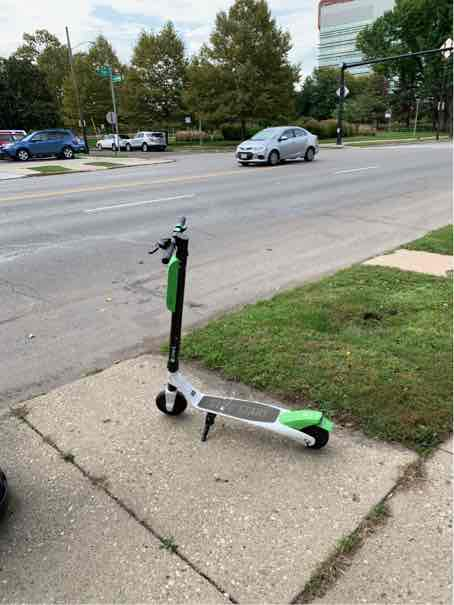scooter: (138, 207, 343, 459)
